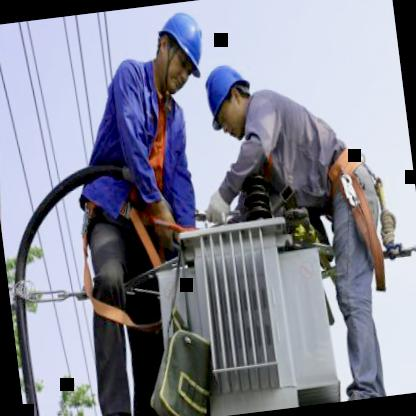helmet: (145, 0, 216, 102), (195, 50, 262, 140)
